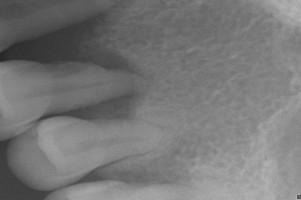Dental Caries: (41, 1, 153, 120)
